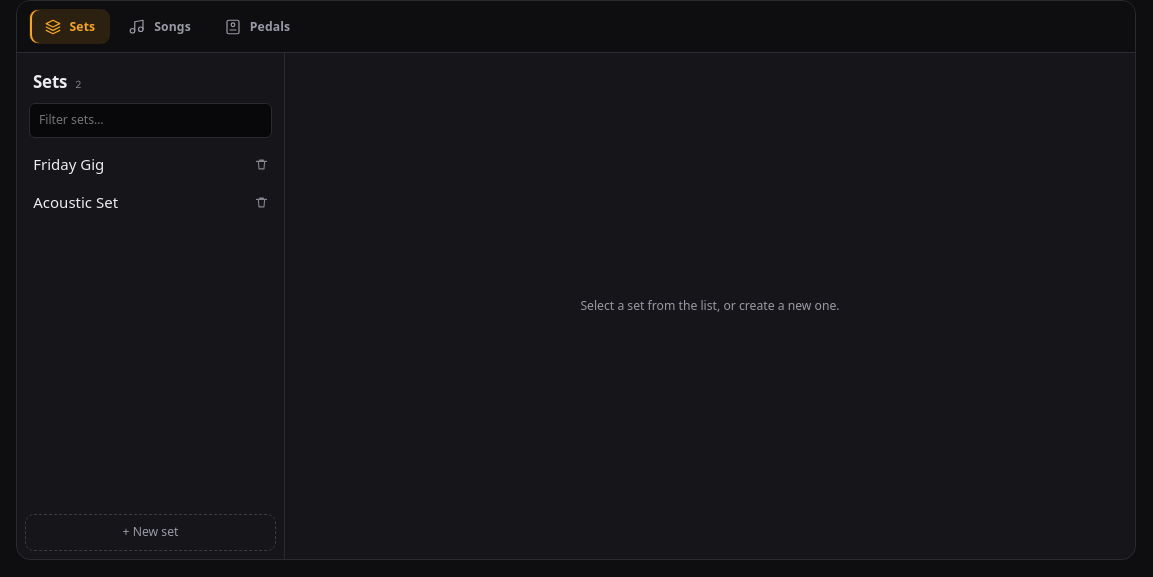
it: Configure screen › the icon rail switches between sets, songs and pedals
Check: the button "Friday Gig" is shown, box [25,146,248,183]
Click the button "Songs". click: click(160, 27)
box: [114,9,205,44]
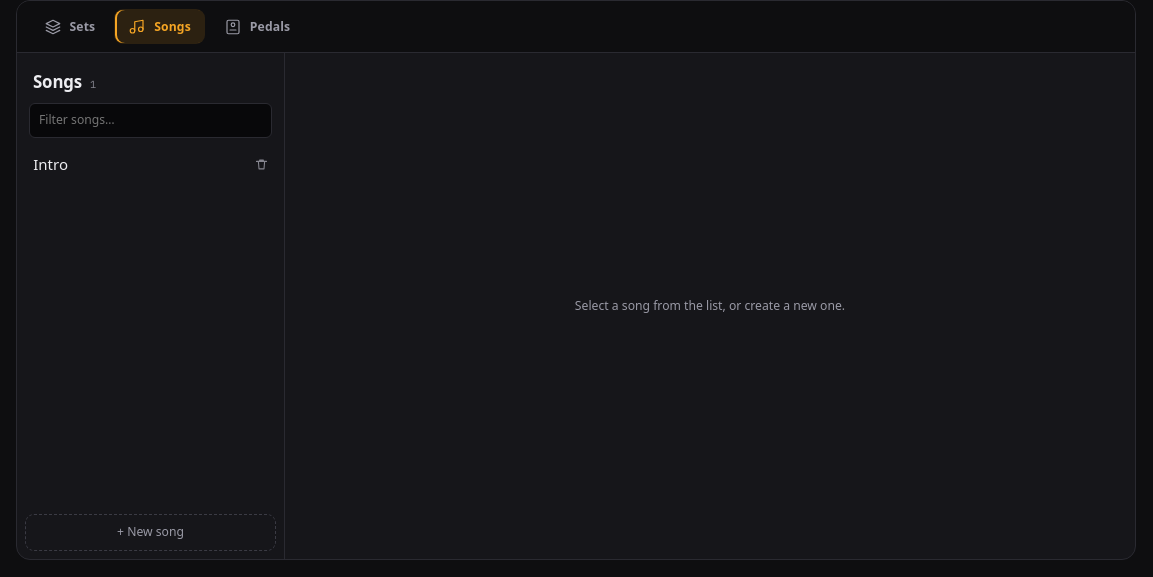
Check: the button "Intro" is shown, box [25,146,248,183]
Click the button "Pedals". click: click(257, 27)
box: [209,9,305,44]
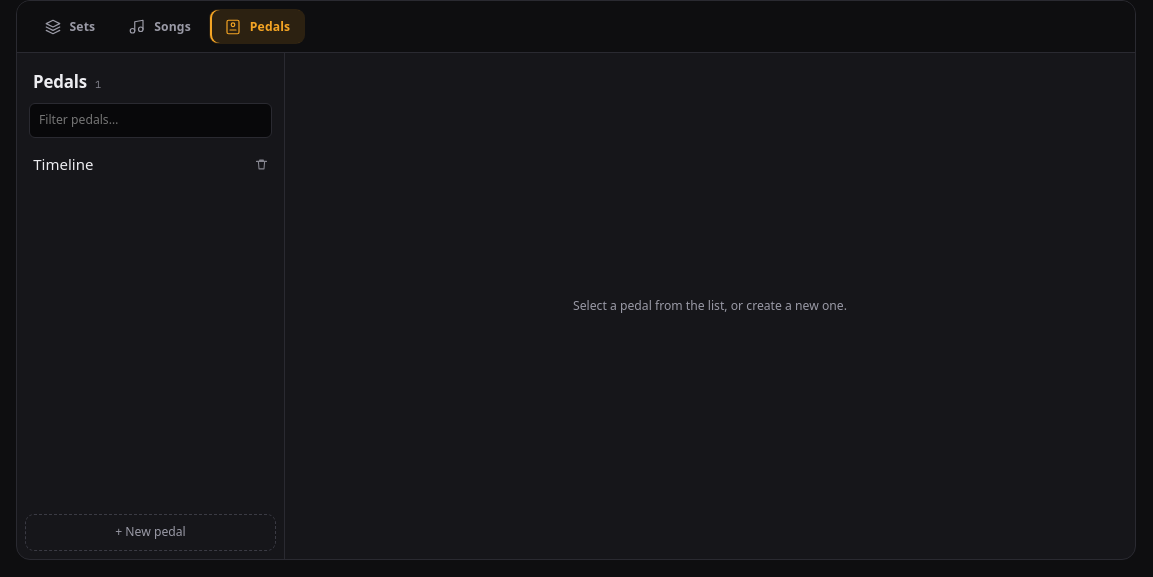
Check: the button "Timeline" is shown, box [25,146,248,183]
